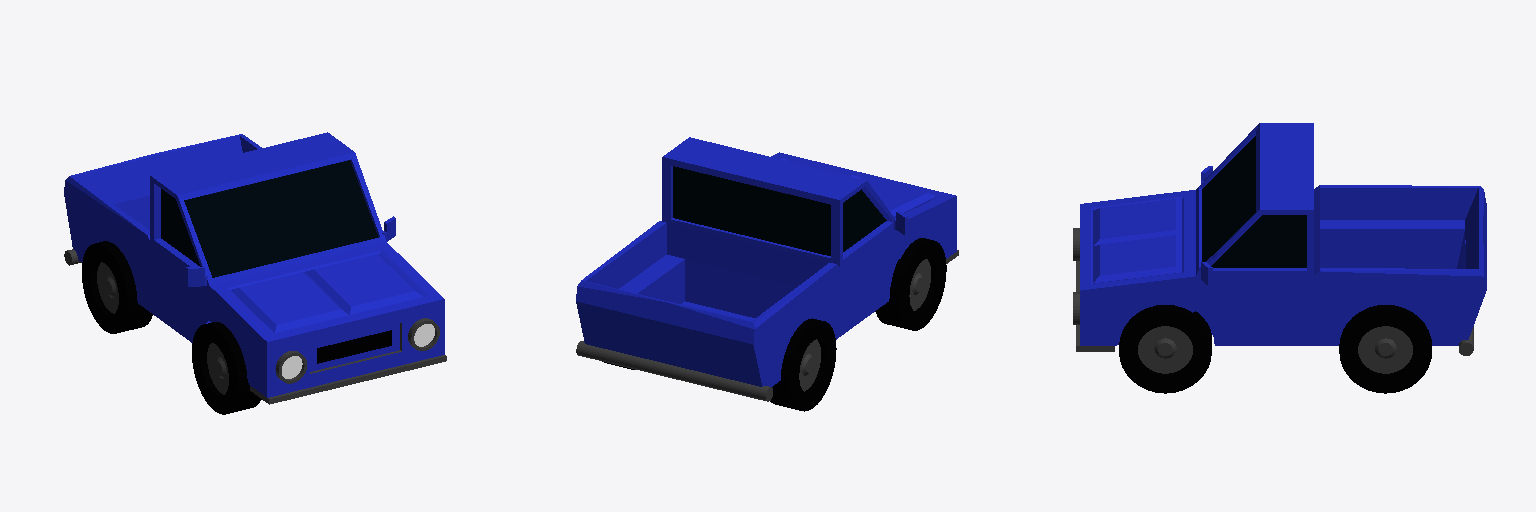
File: BlueCar.obj
3 renders of one model, left to right at view 1: azimuth 30°, elevation 25°; view 2: azimuth 150°, elevation 25°; view 3: azimuth 270°, elevation 25°, orthographic.
Visible parts, largest first — view 1: Cube_Cube.001, Cylinder.001, Cylinder.003, Cylinder.002; view 2: Cube_Cube.001, Cylinder.003, Cylinder.001, Cube.001_Cube.002; view 3: Cube_Cube.001, Cylinder.003, Cylinder.001.
Part boxes in pixels (x1,y1,x2,y2): Cube_Cube.001: (64, 132, 446, 404); Cylinder.001: (82, 241, 152, 333); Cylinder.003: (192, 322, 261, 414); Cylinder.002: (275, 318, 439, 383); Cube_Cube.001: (576, 137, 958, 386); Cylinder.003: (875, 238, 946, 330); Cylinder.001: (602, 318, 836, 411); Cube.001_Cube.002: (576, 341, 772, 401); Cube_Cube.001: (1076, 123, 1486, 351); Cylinder.003: (1119, 305, 1211, 393); Cylinder.001: (1339, 305, 1431, 393).
Bounding box in the file's own units: 0.6581 × 0.5433 × 1.13.